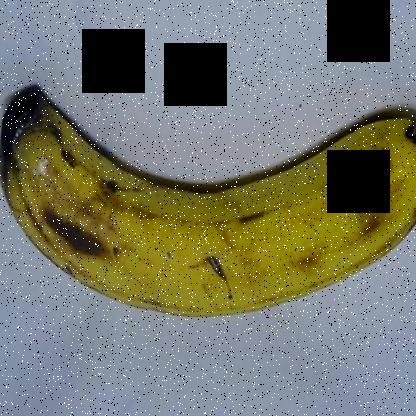ripe: (1, 69, 415, 338)
